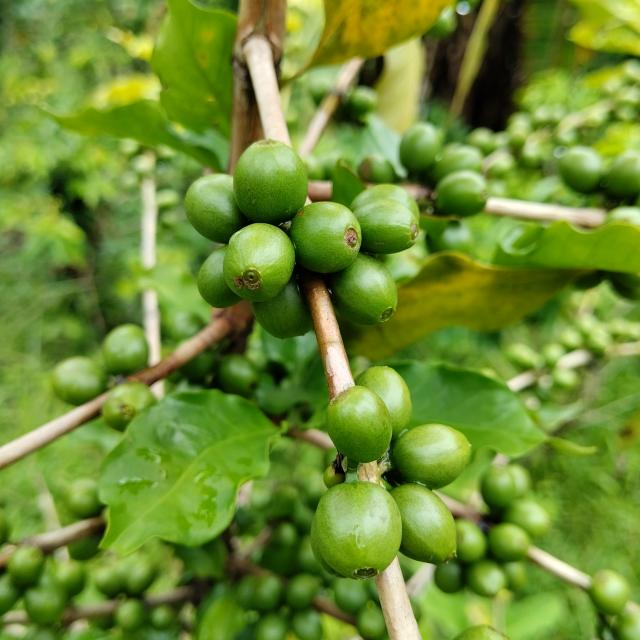green: (315, 482, 402, 580), (233, 139, 308, 225), (223, 223, 295, 302), (390, 484, 457, 566), (390, 424, 471, 489), (289, 201, 362, 273), (326, 386, 393, 463), (328, 252, 398, 325), (184, 173, 248, 243), (355, 366, 412, 439), (252, 273, 313, 339), (354, 199, 420, 254), (197, 245, 243, 308), (50, 356, 106, 406), (101, 382, 155, 432), (350, 184, 420, 220), (101, 324, 148, 375), (310, 521, 345, 578)
